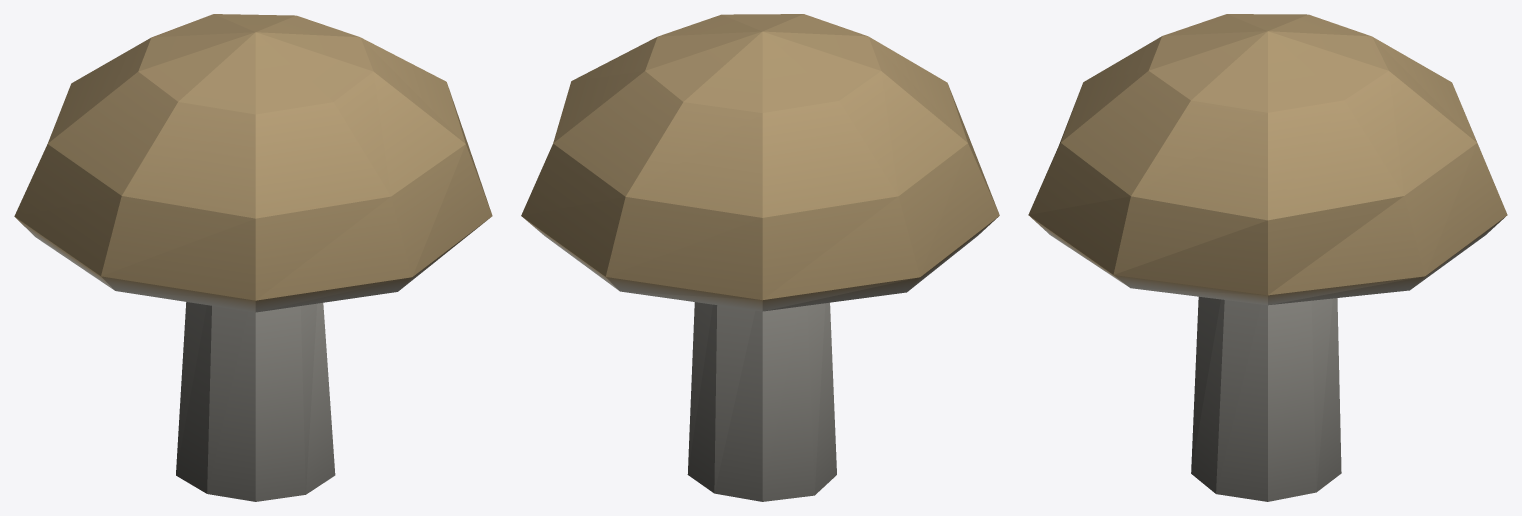
Rendered from pilz_hell.glb.
3 renders of one model, left to right at view 1: azimuth 30°, elevation 25°; view 2: azimuth 150°, elevation 25°; view 3: azimuth 270°, elevation 25°, orthographic.
Parts seen in each view (by area): view 1: pilz_hell; view 2: pilz_hell; view 3: pilz_hell.
Boxes of the visible parts, x1=… form: pilz_hell: x1=14, y1=14, x2=492, y2=501; pilz_hell: x1=521, y1=14, x2=999, y2=501; pilz_hell: x1=1028, y1=14, x2=1507, y2=501.
Size of the model in its own units: 0.1439 by 0.15 by 0.1492.
